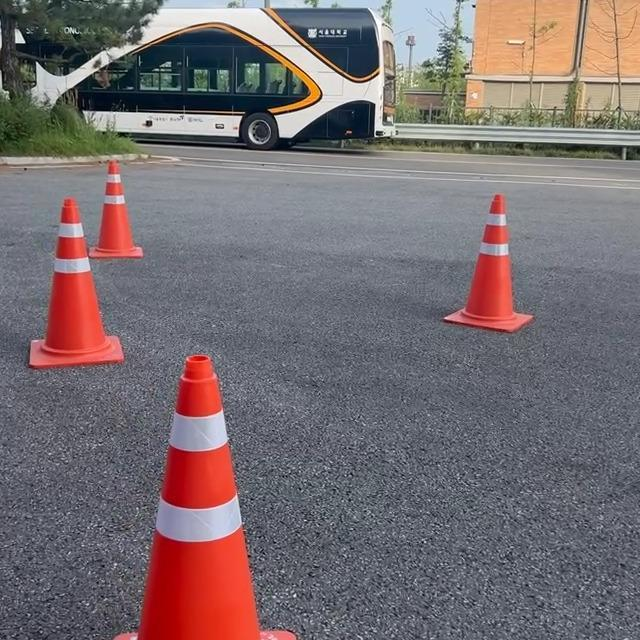fallen_object: (96, 336, 288, 640), (26, 205, 156, 380), (409, 167, 532, 327), (83, 147, 158, 277)
